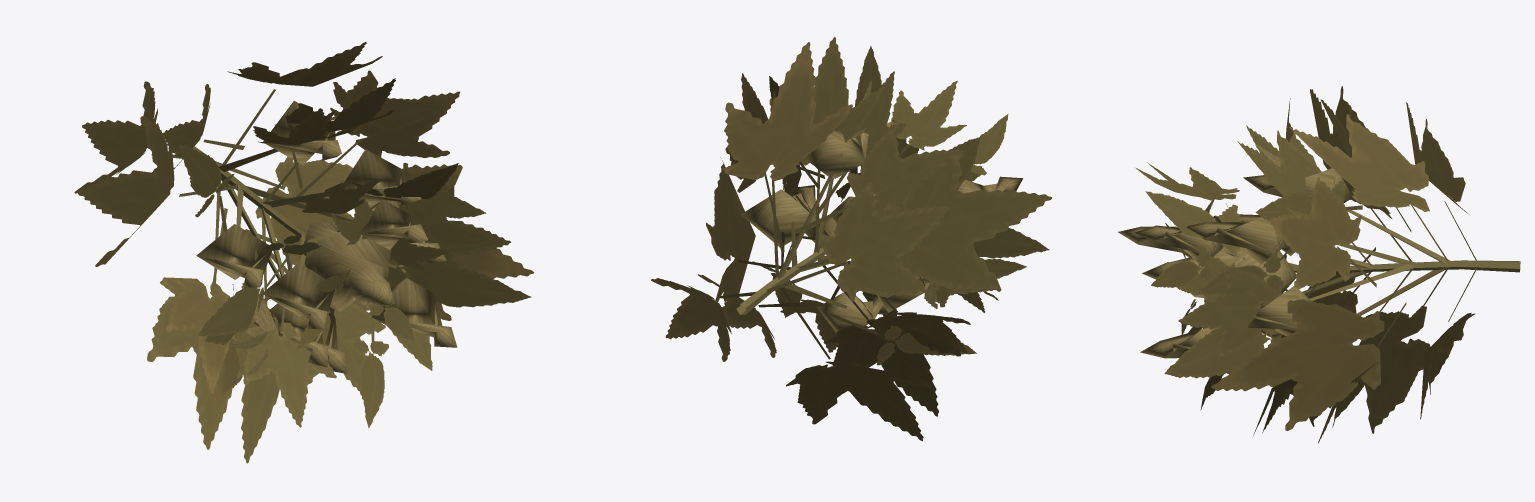
File: p_afghan_ripe_c2_cards.obj
The picture shows the model from 3 angles, left to right: view 1: azimuth 30°, elevation 25°; view 2: azimuth 150°, elevation 25°; view 3: azimuth 270°, elevation 25°; orthographic projection. The views are drawn at different scales.
Bounding box in the file's own units: 1.6 × 1.5 × 1.26.
1 material, 1 textured.
